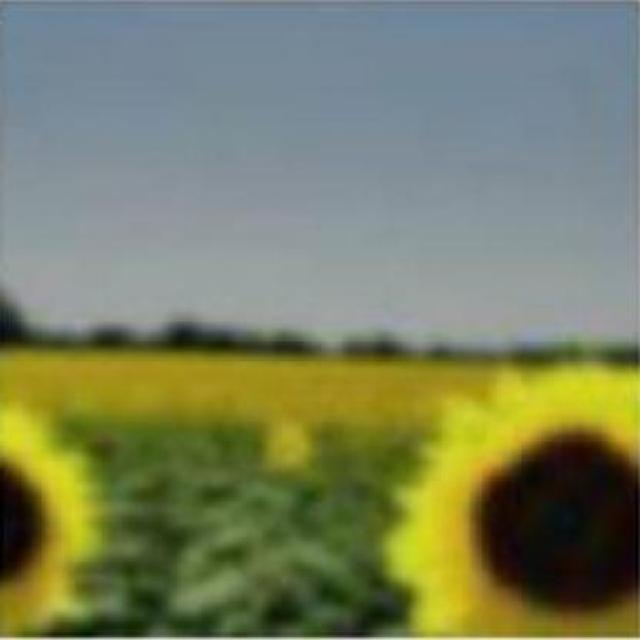sunflower: (377, 355, 640, 640)
